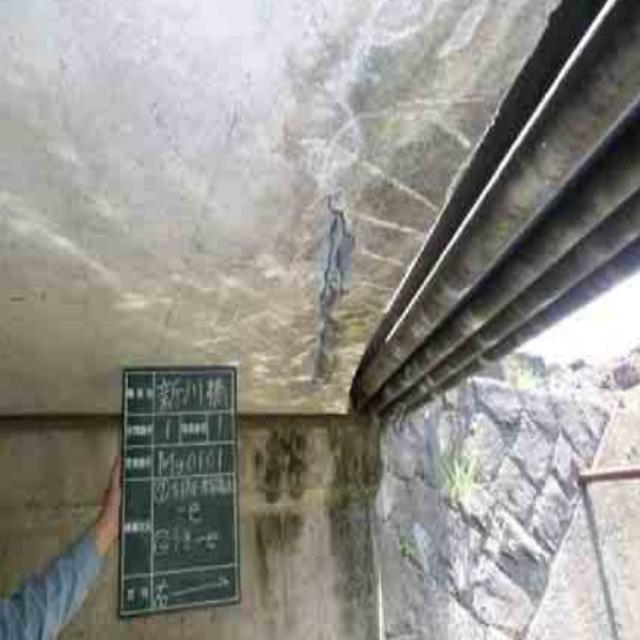spalling: (284, 143, 362, 398)
